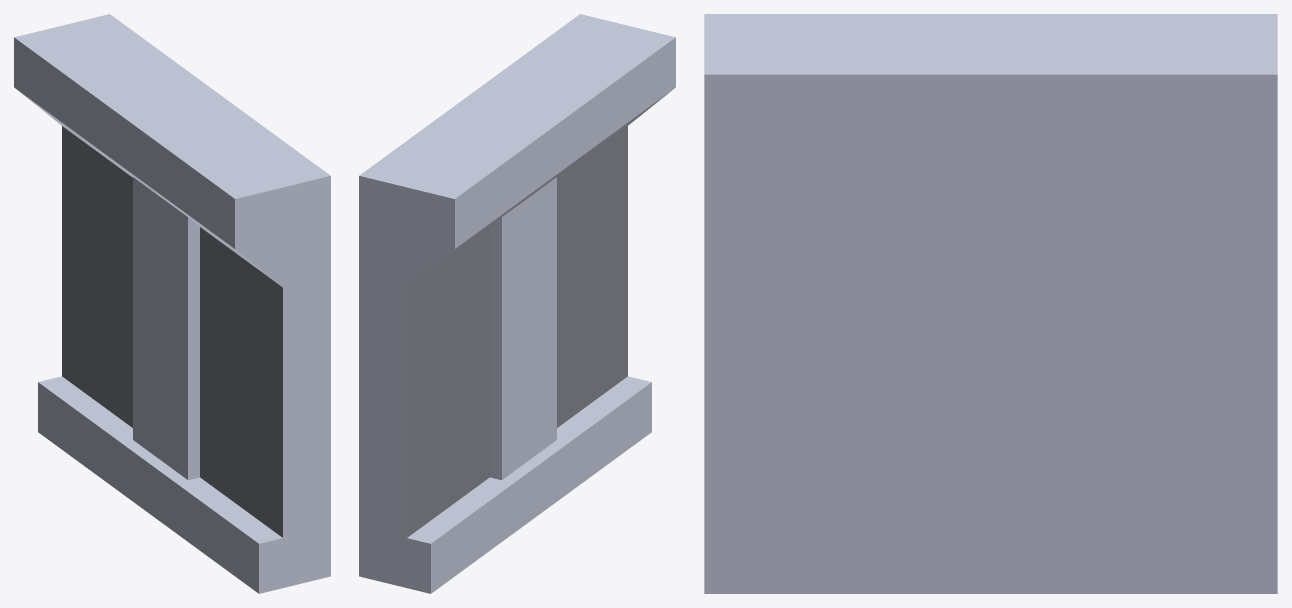
The picture shows the model from 3 angles, left to right: view 1: azimuth 30°, elevation 25°; view 2: azimuth 150°, elevation 25°; view 3: azimuth 270°, elevation 25°; orthographic projection. The views are drawn at different scales.
Visible parts, largest first — view 1: object_001; view 2: object_001; view 3: object_001.
Part boxes in pixels (x1,y1,x2,y2): object_001: (14, 14, 330, 593); object_001: (359, 14, 675, 593); object_001: (704, 14, 1277, 593).
Size of the model in its own units: 0.25 by 1 by 1.
